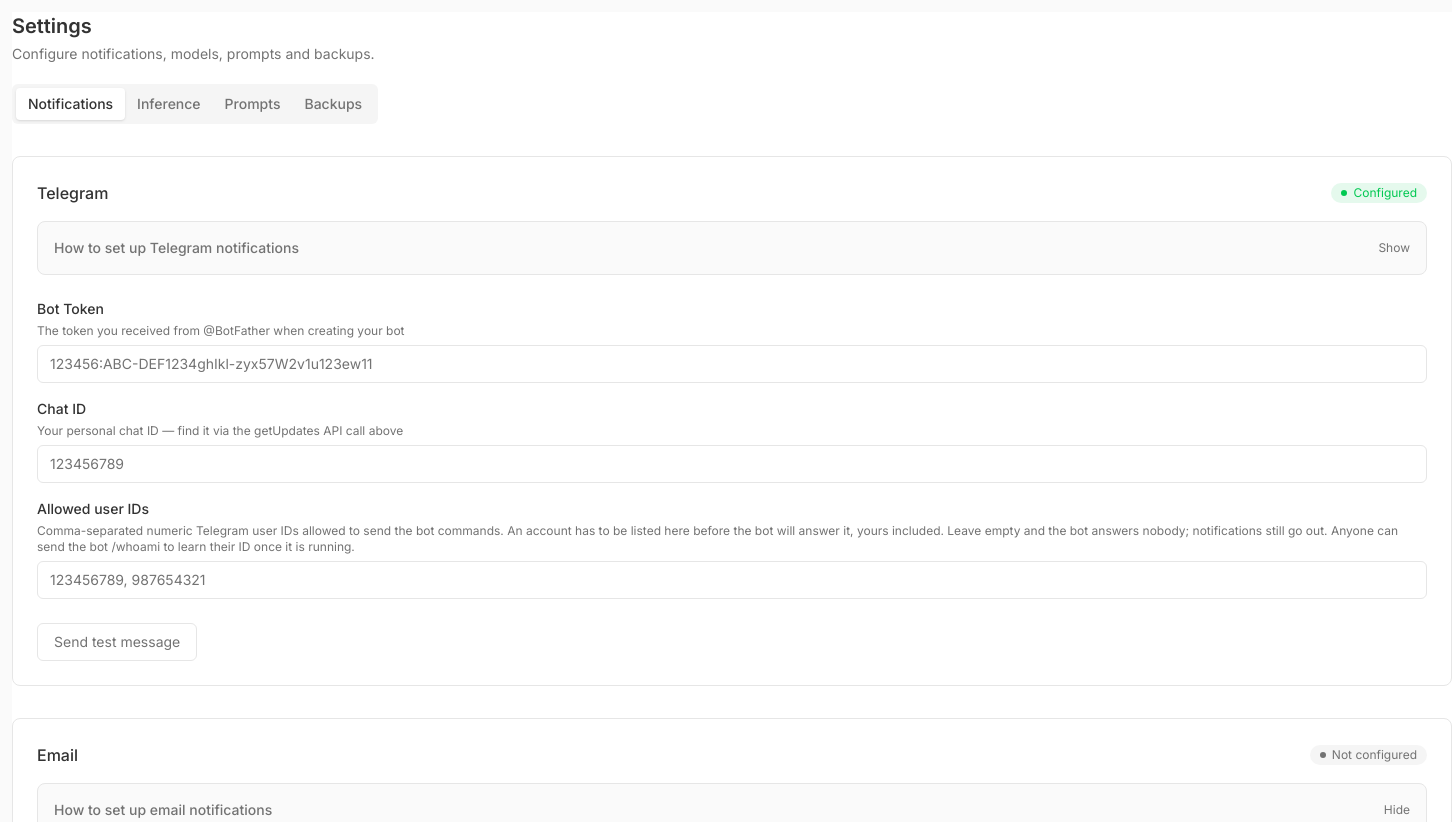
NotificationSettings — save, test, and error paths › sends a Telegram test message and toasts success
Click the button "Send test message". click: coordinates (117, 642)
box: [37,623,197,661]
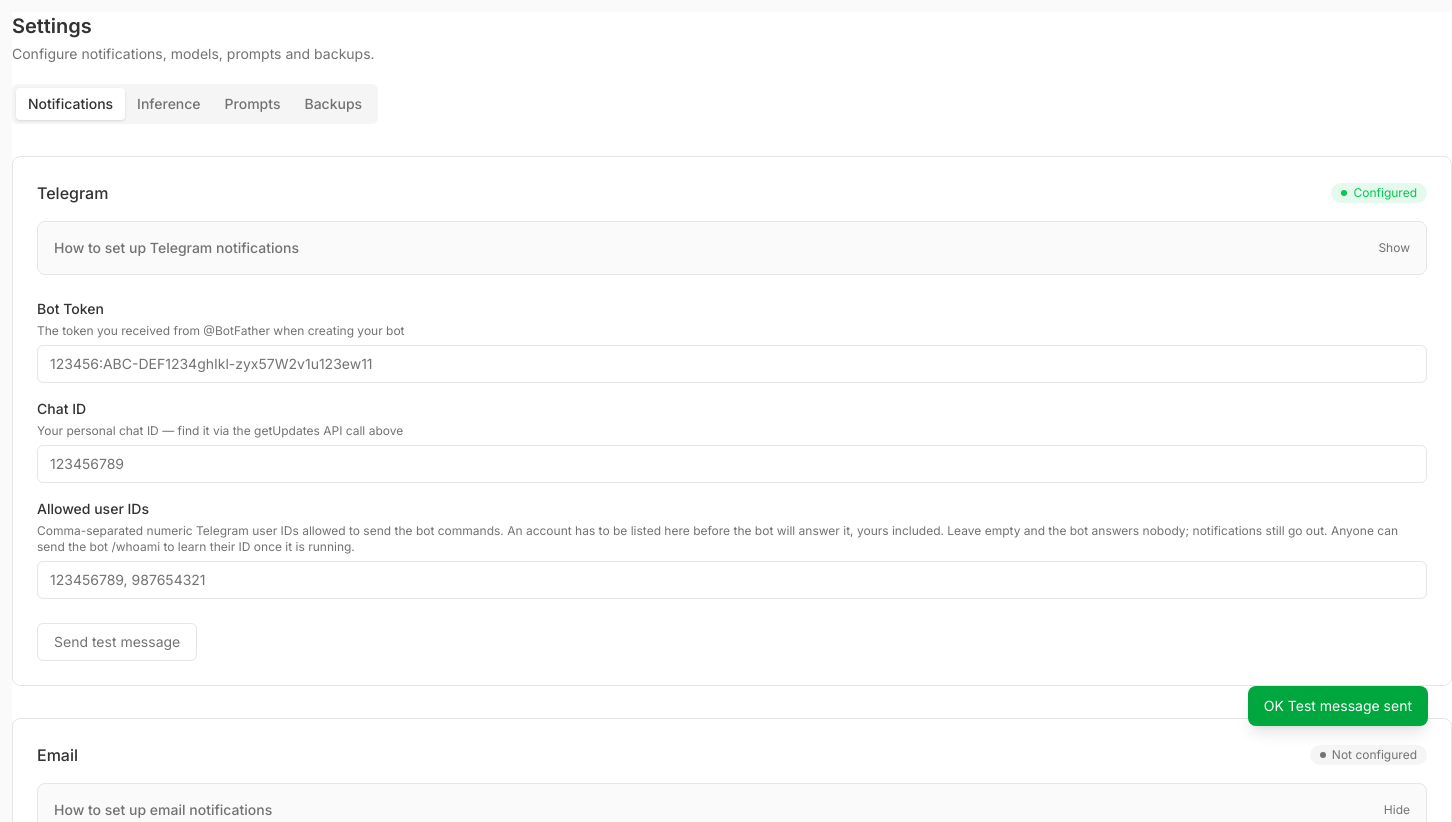
Expected: the text "OK Test message sent" is shown, [1248,686,1428,726]
